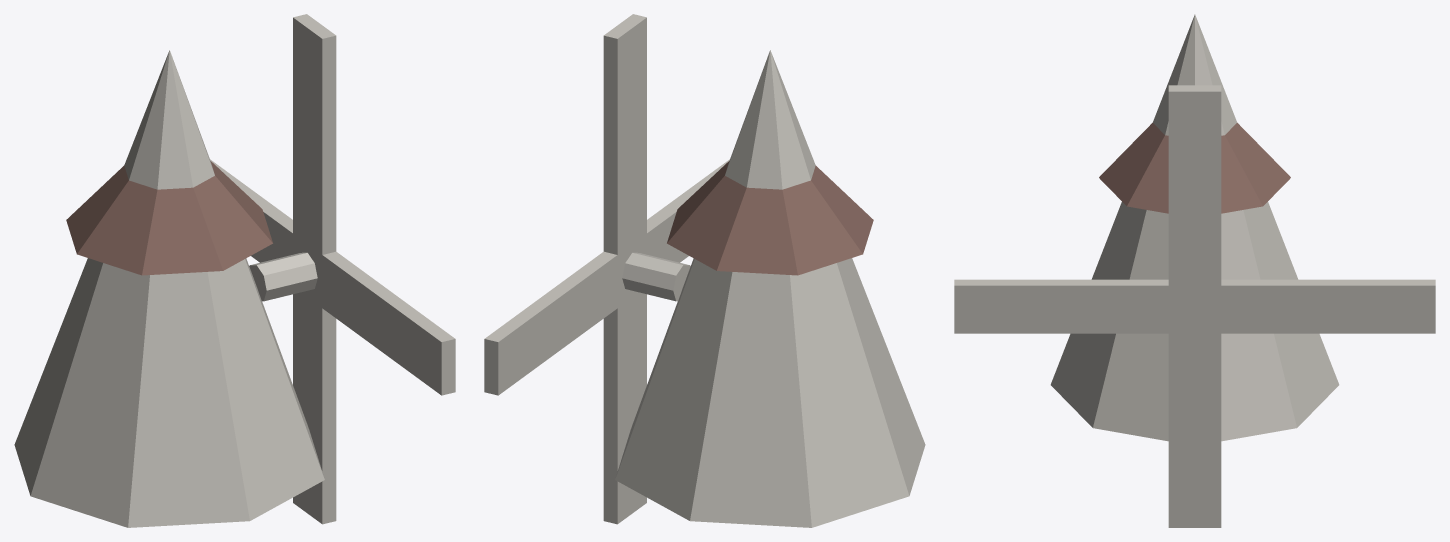
The picture shows the model from 3 angles, left to right: view 1: azimuth 30°, elevation 25°; view 2: azimuth 150°, elevation 25°; view 3: azimuth 270°, elevation 25°; orthographic projection. The views are drawn at different scales.
Parts seen in each view (by area): view 1: part0, part1, part3, part6, part5, part2, part4; view 2: part0, part1, part3, part4, part5, part2, part6; view 3: part0, part4, part6, part3, part5, part1.
Boxes of the visible parts, box(x1,y1,x2,y2) form: part0: box(14, 50, 324, 527); part1: box(66, 161, 272, 275); part3: box(293, 14, 336, 274); part6: box(307, 244, 455, 395); part5: box(293, 286, 336, 524); part2: box(249, 252, 317, 301); part4: box(210, 159, 307, 297); part0: box(615, 50, 925, 527); part1: box(667, 161, 873, 275); part3: box(603, 14, 646, 281); part4: box(484, 244, 632, 395); part5: box(603, 278, 646, 524); part2: box(622, 252, 690, 301); part6: box(632, 159, 729, 262); part0: box(1050, 14, 1339, 441); part4: box(1195, 279, 1435, 333); part6: box(954, 279, 1194, 333); part3: box(1168, 85, 1221, 309); part5: box(1168, 310, 1221, 527); part1: box(1099, 122, 1290, 213).
Size of the model in its own units: 2.51 by 4.1 by 4.
